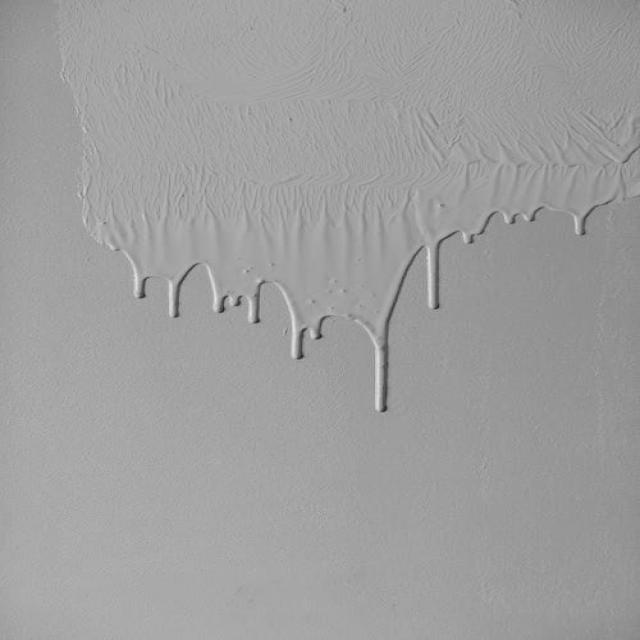paint drips: (74, 122, 639, 416)
